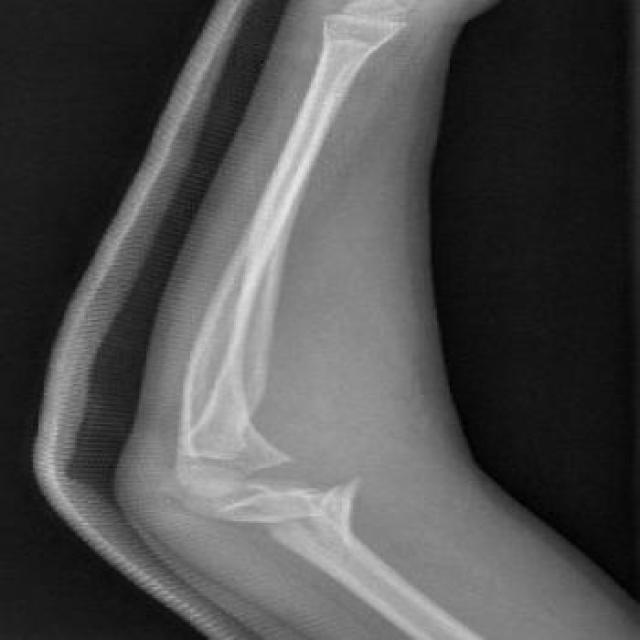fracture: (240, 446, 376, 508)
